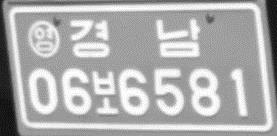0: (27, 66, 59, 115)
1: (226, 67, 252, 118)
5: (152, 67, 185, 116)
6: (59, 66, 92, 116), (119, 67, 150, 116)
8: (186, 68, 223, 116)
경남_D: (68, 16, 202, 61)
보: (91, 70, 119, 116)
영: (27, 18, 61, 59)
